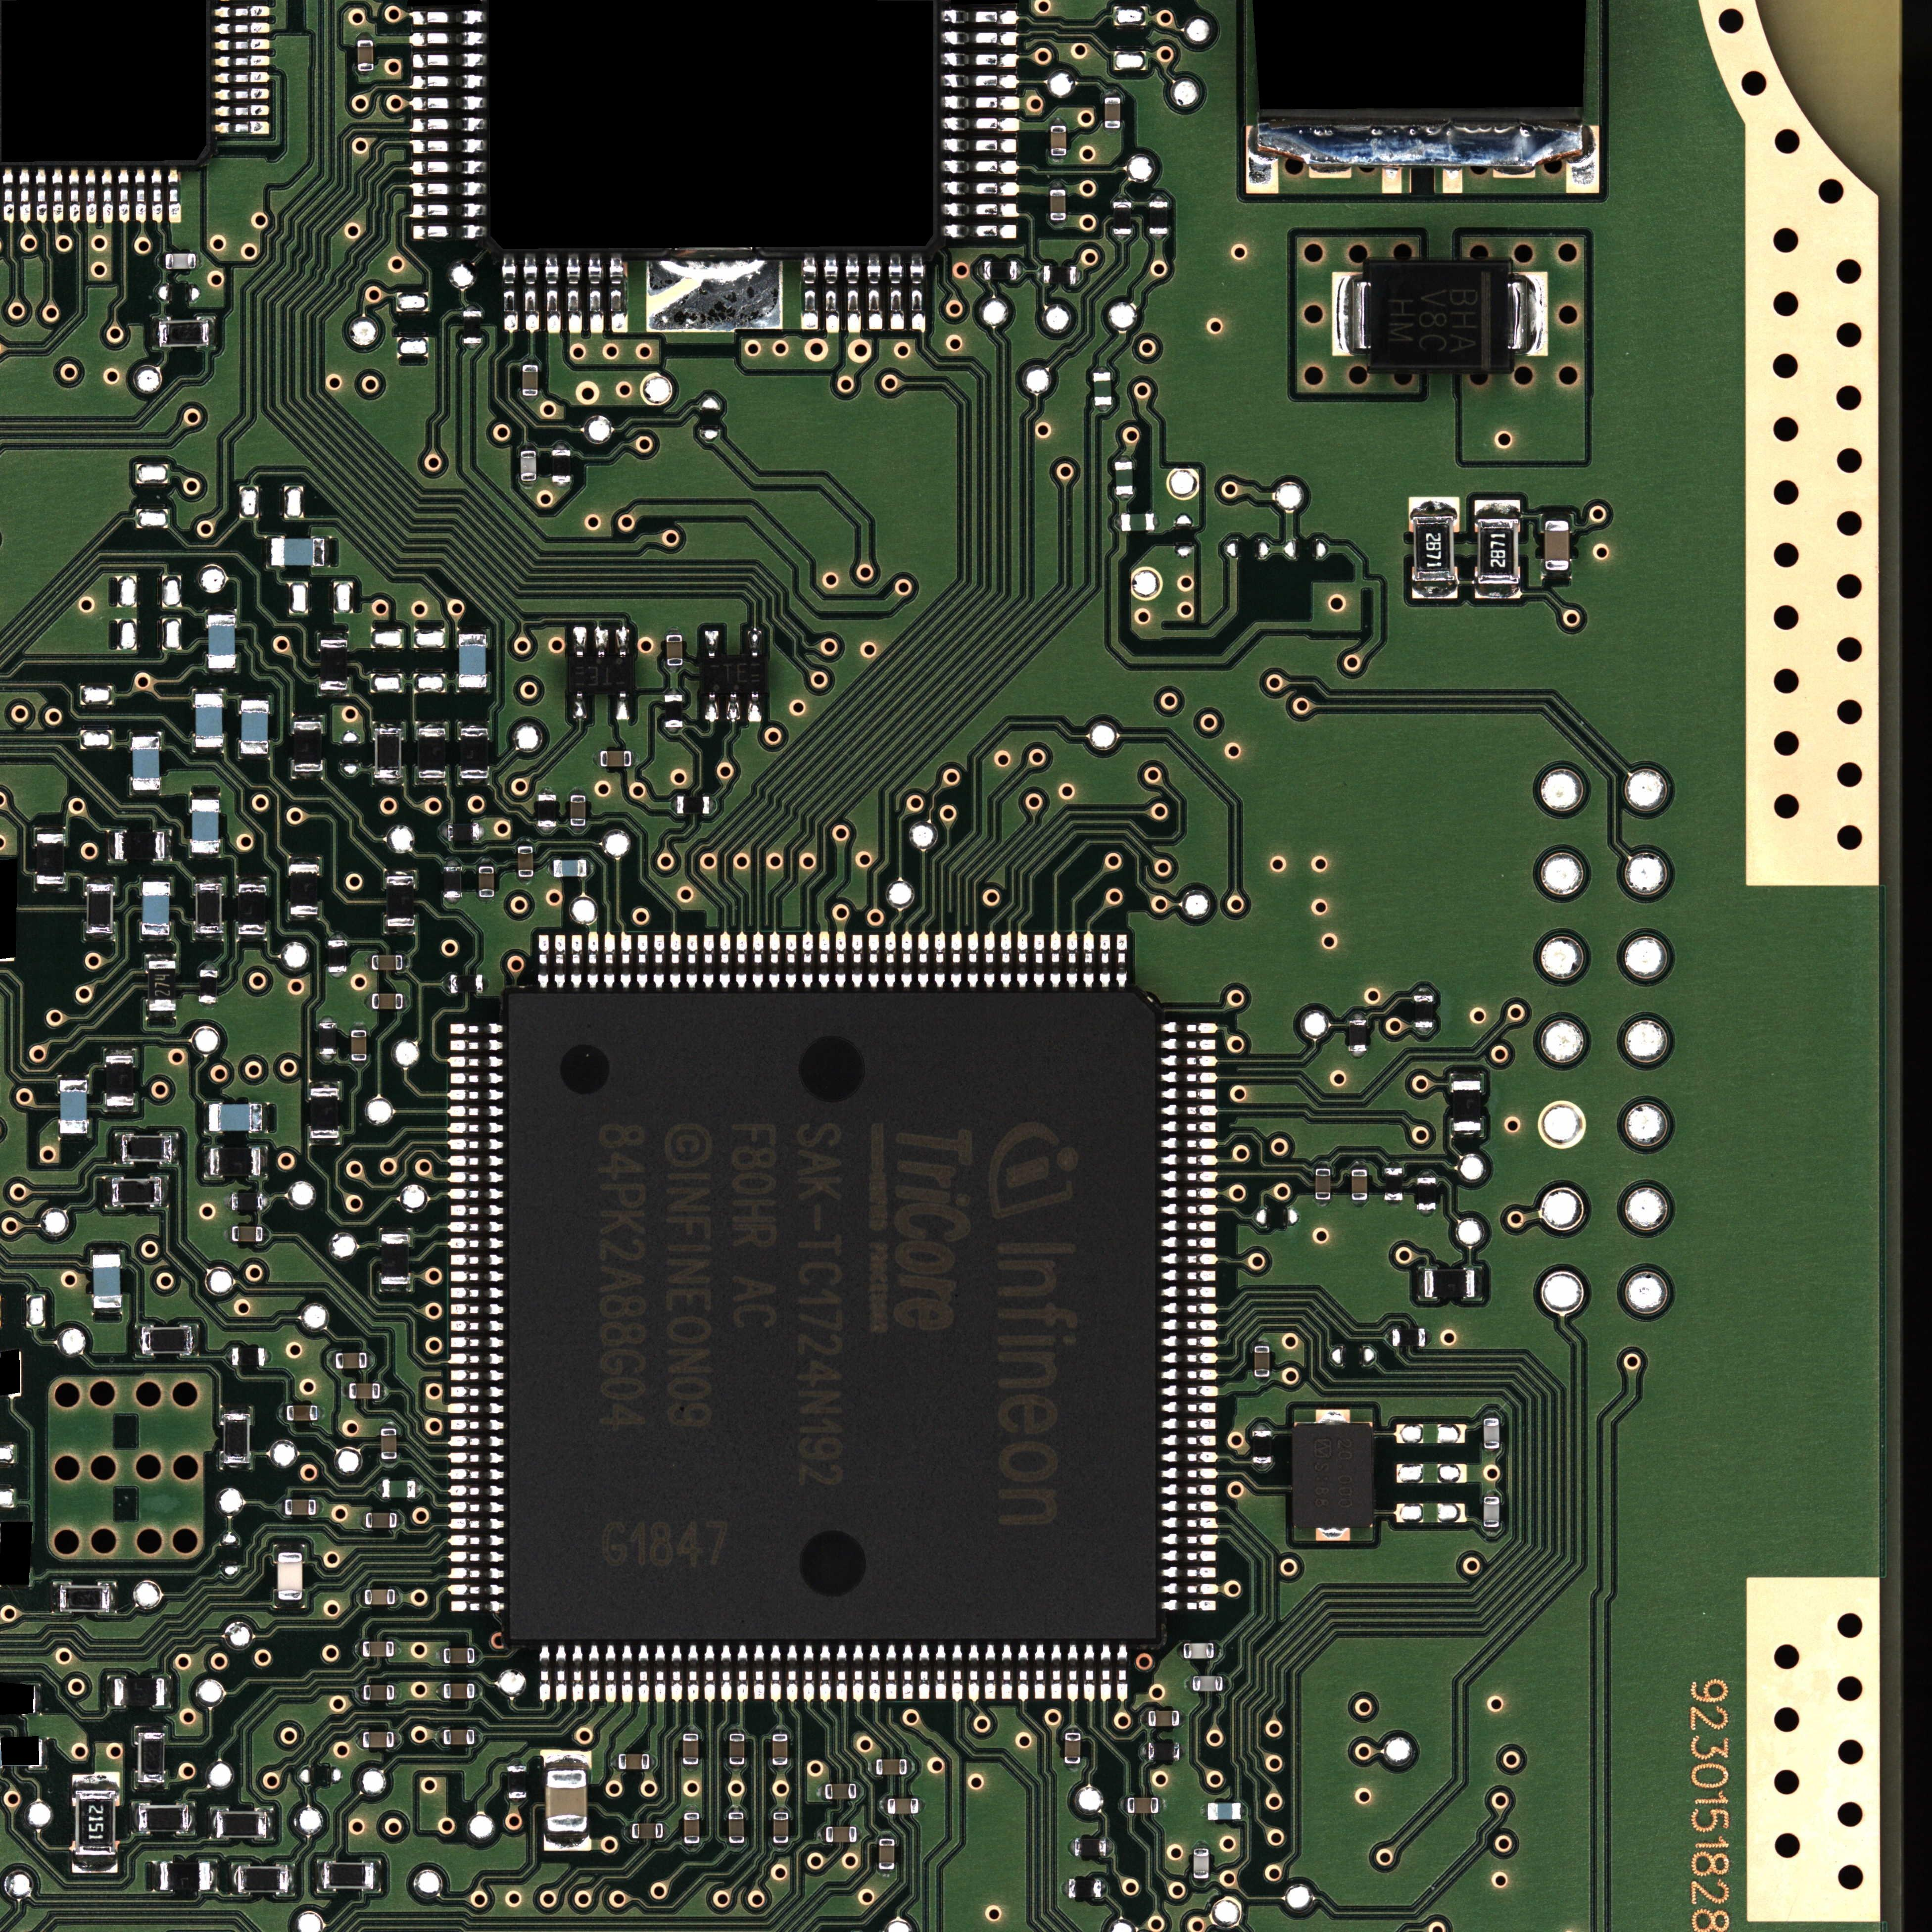Package: (508, 993, 1157, 1640), (1371, 264, 1507, 368), (1292, 1424, 1375, 1527), (74, 1790, 117, 1854), (1477, 518, 1518, 584), (1414, 517, 1454, 580), (547, 1771, 587, 1831), (570, 656, 633, 692), (701, 658, 764, 690), (458, 633, 487, 688), (271, 538, 324, 566), (191, 800, 219, 853), (142, 883, 170, 936), (241, 701, 269, 754), (209, 1104, 262, 1132), (1424, 1269, 1474, 1299), (195, 695, 223, 747), (133, 738, 159, 791), (209, 616, 235, 669), (94, 1254, 120, 1307), (290, 865, 318, 915), (115, 832, 165, 860), (294, 722, 322, 771), (460, 729, 488, 778), (386, 876, 414, 925), (418, 729, 446, 778), (115, 1677, 165, 1706), (211, 1148, 260, 1177), (106, 1056, 134, 1106), (1453, 1081, 1481, 1131), (320, 639, 347, 690), (60, 1081, 87, 1132), (37, 835, 64, 885), (149, 961, 175, 1010), (159, 320, 209, 347), (239, 885, 265, 934), (382, 1235, 409, 1284), (142, 1327, 191, 1353), (311, 1088, 338, 1138), (223, 1414, 249, 1463), (138, 1732, 165, 1782), (2, 1530, 28, 1580), (196, 883, 221, 934), (218, 1812, 265, 1838), (140, 1805, 188, 1831), (113, 1178, 161, 1205), (60, 1585, 108, 1612), (161, 1863, 209, 1890), (375, 729, 400, 778), (122, 1136, 172, 1161), (324, 1863, 373, 1888), (1545, 520, 1569, 570), (87, 885, 111, 932), (239, 1867, 287, 1891), (278, 1553, 303, 1599), (984, 260, 1017, 280), (1414, 994, 1433, 1028), (1253, 1430, 1272, 1463), (1417, 1177, 1437, 1210), (538, 794, 557, 826), (1044, 265, 1076, 285), (1069, 1879, 1100, 1898), (200, 970, 218, 1003), (382, 1481, 416, 1499), (1115, 462, 1132, 495), (1093, 372, 1111, 405), (678, 796, 709, 814), (329, 939, 347, 971), (464, 311, 481, 343), (554, 860, 586, 878), (665, 695, 683, 727), (552, 449, 570, 481), (232, 1348, 264, 1366), (318, 1023, 336, 1054), (508, 1766, 525, 1798), (1150, 202, 1168, 234), (1113, 202, 1131, 234), (1122, 513, 1154, 531), (1348, 1019, 1366, 1051), (1392, 1329, 1424, 1346), (1148, 1743, 1180, 1760), (1385, 1168, 1403, 1200), (232, 1192, 262, 1210), (1076, 1838, 1106, 1856), (600, 750, 632, 766), (448, 824, 479, 840), (363, 1684, 395, 1700), (380, 1428, 396, 1460), (773, 1812, 789, 1844), (349, 1384, 380, 1399), (729, 1812, 745, 1844), (1208, 1803, 1240, 1819), (1065, 1732, 1081, 1764), (1127, 1798, 1159, 1813), (520, 451, 536, 481), (444, 867, 460, 897), (667, 635, 683, 665), (357, 41, 373, 71), (570, 796, 586, 826), (522, 366, 538, 396), (826, 1826, 856, 1842), (363, 1732, 393, 1748), (287, 1405, 317, 1421), (363, 1642, 393, 1658), (232, 1226, 262, 1242), (876, 1759, 906, 1775), (826, 1783, 856, 1799), (444, 1647, 474, 1663), (683, 1734, 699, 1764), (619, 1753, 649, 1769), (364, 1589, 395, 1605), (350, 1030, 366, 1060), (285, 1499, 315, 1514), (366, 1513, 396, 1529), (729, 1734, 745, 1764), (1104, 97, 1120, 127), (1051, 126, 1067, 156), (1192, 1675, 1223, 1691), (1352, 1169, 1368, 1200), (1315, 1169, 1330, 1200), (1484, 1497, 1500, 1527), (1254, 1346, 1270, 1376), (1484, 1419, 1500, 1449), (1148, 1711, 1178, 1727), (518, 846, 533, 878), (166, 253, 195, 269), (479, 867, 494, 897), (372, 955, 402, 970), (372, 994, 402, 1008), (336, 1353, 366, 1368), (685, 1813, 699, 1844), (632, 1824, 662, 1838), (444, 1684, 474, 1698), (444, 1730, 474, 1744), (888, 1799, 918, 1813), (773, 1734, 787, 1764), (879, 1840, 893, 1870), (1051, 189, 1065, 219), (1184, 1644, 1214, 1658), (1194, 1849, 1208, 1879)
Solder: (1247, 122, 1599, 189), (646, 260, 782, 331), (1507, 271, 1548, 356), (1332, 271, 1371, 356), (609, 253, 630, 333), (865, 251, 885, 334), (908, 253, 927, 334), (886, 253, 906, 334), (844, 251, 863, 333), (800, 253, 819, 334), (543, 253, 563, 334), (501, 253, 520, 334), (823, 253, 840, 334), (587, 253, 605, 334), (566, 253, 584, 334), (524, 253, 541, 334), (941, 28, 1021, 46), (941, 73, 1021, 90), (939, 51, 1019, 69), (941, 94, 1021, 111), (941, 115, 1021, 133), (941, 138, 1021, 156), (941, 159, 1021, 177), (939, 202, 1019, 219), (939, 223, 1019, 241), (407, 94, 487, 111), (407, 30, 487, 48), (409, 180, 487, 198), (409, 136, 487, 154), (407, 9, 485, 27), (941, 9, 1021, 25), (939, 180, 1019, 196), (409, 203, 487, 219), (409, 117, 487, 133), (409, 53, 487, 69), (410, 225, 487, 241), (410, 159, 487, 175), (409, 74, 485, 90), (543, 1750, 591, 1769), (1408, 497, 1460, 515), (83, 168, 99, 225), (1474, 499, 1520, 518), (4, 1350, 23, 1396), (166, 168, 182, 223), (73, 1773, 120, 1790), (71, 1856, 119, 1874), (543, 1833, 591, 1851), (1412, 582, 1458, 600), (150, 168, 165, 225), (134, 168, 149, 225), (117, 168, 131, 225), (101, 168, 115, 225), (51, 168, 65, 225), (35, 168, 50, 225), (67, 168, 81, 223), (18, 168, 32, 223), (2, 168, 16, 223), (1474, 584, 1522, 600), (835, 1642, 847, 1702), (968, 1642, 980, 1702), (1116, 1642, 1129, 1702), (448, 1138, 506, 1150), (934, 932, 947, 991), (950, 932, 962, 991), (901, 932, 913, 991), (603, 932, 616, 991), (885, 932, 897, 991), (801, 932, 814, 991), (752, 932, 764, 991), (918, 1642, 931, 1700), (571, 1644, 584, 1702), (621, 1644, 633, 1702), (736, 1644, 748, 1702), (671, 1644, 683, 1702), (1000, 932, 1012, 991), (1049, 932, 1062, 991), (1033, 1642, 1046, 1700), (1017, 1642, 1030, 1700), (984, 1642, 996, 1700), (1067, 1642, 1079, 1700), (212, 104, 271, 117), (449, 1072, 506, 1085), (449, 1088, 506, 1100), (449, 1039, 506, 1051), (449, 1023, 506, 1035), (449, 1352, 506, 1364), (449, 1435, 506, 1447), (449, 1451, 506, 1463), (449, 1468, 506, 1481), (449, 1484, 506, 1497), (449, 1568, 506, 1580), (449, 1550, 506, 1562), (449, 1534, 506, 1546), (449, 1500, 506, 1513), (851, 934, 863, 991), (1116, 934, 1129, 991), (1161, 1203, 1217, 1215), (1161, 1253, 1217, 1265), (1161, 1187, 1217, 1200), (1161, 1302, 1217, 1315), (1161, 1154, 1217, 1166), (1161, 1318, 1217, 1330), (1161, 1138, 1217, 1150), (1161, 1336, 1217, 1348), (1161, 1352, 1217, 1364), (1161, 1021, 1217, 1033), (1161, 1368, 1217, 1380), (1161, 1451, 1217, 1463), (1161, 1583, 1217, 1596), (1161, 1534, 1217, 1546), (214, 5, 271, 18), (214, 21, 271, 34), (214, 39, 271, 51), (214, 55, 271, 67), (214, 71, 271, 83), (449, 1385, 504, 1398), (449, 1171, 504, 1184), (449, 1205, 504, 1217), (449, 1221, 504, 1233), (449, 1187, 504, 1200), (449, 1254, 504, 1267), (449, 1237, 504, 1249), (451, 1369, 506, 1382), (449, 1518, 504, 1530), (653, 936, 665, 991), (1161, 1237, 1215, 1249), (1161, 1286, 1215, 1299), (1161, 1054, 1215, 1067), (1161, 1039, 1215, 1051), (1161, 1417, 1215, 1430), (1162, 1385, 1217, 1398), (1161, 1599, 1215, 1612), (1161, 1566, 1215, 1578), (1162, 1500, 1217, 1513), (1161, 1550, 1215, 1562), (1162, 1484, 1217, 1497), (1162, 1516, 1217, 1529), (1162, 1467, 1217, 1479), (451, 1270, 504, 1283), (451, 1286, 504, 1299), (451, 1320, 504, 1332), (451, 1419, 504, 1431), (451, 1336, 504, 1348), (554, 936, 566, 989), (1162, 1104, 1215, 1116), (1162, 1088, 1215, 1100), (1162, 1401, 1215, 1414), (819, 931, 830, 991), (870, 1642, 881, 1702), (589, 1642, 600, 1702), (605, 1642, 616, 1702), (722, 1642, 732, 1702), (771, 1642, 782, 1702), (688, 1642, 699, 1702), (787, 1642, 798, 1702), (1085, 1642, 1095, 1702), (1100, 1642, 1111, 1702), (448, 1155, 506, 1166), (448, 1122, 506, 1132), (448, 1106, 506, 1116), (918, 932, 929, 991), (968, 932, 978, 991), (835, 932, 846, 991), (621, 932, 632, 991), (671, 932, 681, 991), (587, 932, 598, 991), (718, 932, 729, 991), (770, 932, 780, 991), (736, 932, 747, 991), (902, 1642, 913, 1700), (556, 1644, 566, 1702), (540, 1644, 550, 1702), (936, 1642, 947, 1700), (952, 1644, 962, 1702), (639, 1644, 649, 1702), (655, 1644, 665, 1702), (853, 1644, 863, 1702), (821, 1644, 832, 1702), (803, 1644, 814, 1702), (704, 1644, 715, 1702), (984, 932, 994, 991), (1017, 932, 1028, 991), (1067, 932, 1077, 991), (1083, 932, 1093, 991), (1001, 1642, 1012, 1700), (1051, 1642, 1062, 1700), (212, 122, 271, 133), (449, 1056, 506, 1067), (449, 1583, 506, 1594), (637, 934, 648, 991), (869, 934, 879, 991), (571, 934, 582, 991), (686, 934, 697, 991), (786, 934, 796, 991), (886, 1644, 897, 1700), (754, 1644, 764, 1700), (1033, 934, 1044, 991), (1100, 934, 1111, 991), (1161, 1171, 1217, 1182), (214, 88, 271, 99), (451, 1304, 506, 1315), (449, 1403, 504, 1414), (451, 1601, 506, 1612), (702, 934, 713, 989), (538, 934, 548, 989), (1161, 1221, 1215, 1231), (1161, 1270, 1215, 1281), (1162, 1072, 1217, 1083), (1161, 1122, 1215, 1132), (1161, 1435, 1215, 1445), (704, 692, 720, 722), (725, 692, 741, 722), (571, 626, 587, 656), (1316, 1410, 1350, 1424), (1316, 1527, 1350, 1541), (704, 630, 720, 658), (571, 692, 587, 720), (616, 626, 630, 656), (747, 628, 761, 658), (616, 692, 630, 720), (594, 628, 609, 656), (748, 692, 761, 722), (150, 317, 159, 349), (134, 1723, 166, 1732), (51, 1582, 60, 1614), (103, 1177, 111, 1207), (161, 1177, 170, 1207), (310, 1138, 340, 1146), (262, 1146, 271, 1177), (380, 1284, 410, 1293), (221, 1405, 251, 1414), (274, 1599, 304, 1608), (211, 1861, 219, 1891), (110, 1582, 119, 1612), (315, 1859, 324, 1890), (373, 1861, 382, 1891), (165, 1677, 173, 1707), (172, 1134, 180, 1162), (133, 1327, 142, 1355), (200, 1148, 209, 1177), (106, 1677, 115, 1706), (1543, 570, 1571, 579), (456, 686, 490, 694), (264, 536, 271, 570), (1476, 1267, 1483, 1300), (324, 536, 331, 568), (134, 1783, 166, 1790), (219, 1463, 251, 1470), (1451, 1074, 1483, 1081), (318, 690, 349, 697), (193, 1325, 200, 1355), (113, 1134, 120, 1164), (310, 1081, 340, 1088), (380, 1226, 410, 1233), (131, 1803, 138, 1833), (189, 1803, 196, 1833), (288, 1865, 295, 1895), (274, 1545, 304, 1552), (209, 1808, 216, 1838), (152, 1861, 159, 1891), (267, 1810, 274, 1840), (1417, 1269, 1424, 1299), (1453, 1131, 1483, 1138), (1541, 513, 1571, 520), (37, 885, 65, 892), (202, 1104, 209, 1132), (230, 1865, 237, 1893), (35, 1684, 42, 1713), (42, 1739, 50, 1767), (205, 669, 239, 674), (209, 317, 214, 349), (456, 628, 488, 633), (205, 609, 237, 614), (239, 695, 271, 701), (85, 878, 115, 883), (35, 828, 65, 833), (142, 876, 172, 881), (318, 633, 349, 639), (458, 722, 488, 727), (189, 793, 219, 798), (131, 731, 161, 736), (416, 778, 446, 784), (239, 754, 269, 759), (373, 778, 403, 784), (193, 748, 223, 754), (288, 858, 318, 863), (373, 722, 403, 727), (193, 688, 223, 694), (292, 717, 322, 722), (292, 773, 322, 778), (131, 791, 161, 796), (104, 1049, 134, 1054), (165, 830, 170, 860), (108, 832, 113, 862), (386, 927, 414, 932), (85, 934, 113, 939), (147, 955, 175, 961), (195, 934, 223, 939), (142, 936, 170, 941), (237, 934, 265, 939), (195, 878, 223, 883), (386, 870, 414, 876), (237, 879, 265, 885), (460, 778, 488, 784), (191, 853, 219, 858), (290, 915, 318, 920), (92, 1307, 120, 1313), (60, 1134, 88, 1139), (262, 1104, 267, 1132), (147, 1012, 175, 1017), (106, 1108, 134, 1113), (92, 1249, 120, 1254), (977, 260, 984, 281), (1017, 260, 1024, 281), (60, 1074, 87, 1079), (1214, 1642, 1223, 1658), (441, 823, 448, 842), (1113, 195, 1132, 202), (1076, 265, 1083, 285), (1037, 265, 1044, 285), (1148, 234, 1168, 241), (1348, 1051, 1368, 1058), (464, 304, 481, 311), (464, 343, 481, 350), (478, 823, 485, 840), (200, 962, 218, 970), (329, 971, 347, 978), (552, 481, 570, 488), (538, 787, 556, 794), (1104, 90, 1122, 97), (1419, 1210, 1437, 1217), (1063, 1764, 1081, 1771), (159, 253, 166, 269), (265, 1346, 271, 1368), (570, 826, 586, 833), (570, 787, 586, 794), (1049, 182, 1065, 189), (1254, 1376, 1270, 1384), (1192, 1842, 1208, 1849), (1141, 1711, 1148, 1727), (198, 1003, 218, 1008), (226, 1346, 232, 1366), (226, 1192, 232, 1212), (508, 1799, 527, 1805), (1113, 235, 1132, 241), (1414, 989, 1433, 994), (418, 724, 446, 727), (382, 1460, 396, 1467), (669, 667, 683, 674), (667, 727, 681, 734), (667, 628, 681, 635), (685, 1844, 699, 1851), (1177, 1644, 1184, 1658), (329, 934, 347, 939), (444, 897, 462, 902), (318, 1054, 336, 1060), (318, 1017, 336, 1023), (474, 1729, 479, 1746), (377, 1479, 382, 1497), (538, 828, 556, 833), (632, 750, 637, 768), (508, 1760, 525, 1766), (1150, 195, 1168, 200), (1049, 221, 1067, 226), (1095, 405, 1113, 410), (1104, 129, 1122, 134), (1049, 119, 1067, 124), (1093, 366, 1111, 372), (1115, 456, 1132, 462), (1348, 1014, 1366, 1019), (1415, 1028, 1433, 1033), (1253, 1424, 1270, 1430), (1417, 1171, 1435, 1177), (1387, 1329, 1392, 1346), (1385, 1201, 1403, 1207), (1385, 1162, 1403, 1168), (1426, 1329, 1431, 1346), (1254, 1463, 1272, 1468), (1063, 1879, 1069, 1897), (196, 253, 202, 269), (357, 71, 373, 76), (478, 860, 494, 865), (366, 993, 372, 1008), (380, 1422, 396, 1428), (359, 1589, 364, 1605), (357, 1732, 363, 1748), (439, 1647, 444, 1663), (280, 1499, 285, 1514), (520, 446, 536, 451), (520, 481, 536, 487), (522, 359, 538, 364), (522, 396, 538, 402), (587, 860, 593, 876), (665, 688, 681, 694), (594, 750, 600, 766), (548, 860, 554, 876), (773, 1806, 789, 1812), (729, 1764, 745, 1769), (683, 1764, 699, 1769), (683, 1729, 699, 1734), (856, 1826, 862, 1842), (773, 1844, 789, 1849), (729, 1844, 745, 1849), (771, 1766, 787, 1771), (729, 1729, 745, 1734), (879, 1833, 895, 1838), (878, 1870, 893, 1875), (918, 1798, 924, 1813), (821, 1826, 826, 1842), (1051, 156, 1067, 161), (1116, 515, 1122, 531), (1254, 1339, 1270, 1345), (1315, 1162, 1330, 1168), (1065, 1727, 1081, 1732), (1192, 1879, 1208, 1884), (1223, 1675, 1228, 1691), (1069, 1840, 1074, 1856), (1106, 1840, 1111, 1856), (1484, 1449, 1500, 1454), (479, 897, 494, 902), (366, 955, 372, 970), (439, 1684, 444, 1698), (518, 840, 533, 846), (518, 878, 533, 883), (773, 1729, 787, 1734), (729, 1806, 743, 1812), (1484, 1412, 1499, 1417), (1484, 1529, 1499, 1534), (444, 862, 462, 865), (350, 1026, 368, 1030), (264, 1192, 267, 1210), (476, 1683, 479, 1700), (552, 446, 570, 449), (672, 796, 676, 814), (711, 796, 715, 814), (1180, 1743, 1184, 1760), (1180, 1709, 1184, 1727), (1145, 1743, 1148, 1760), (357, 35, 373, 39), (403, 954, 407, 970), (318, 1405, 322, 1421), (228, 1226, 232, 1242), (345, 1384, 349, 1399), (264, 1226, 267, 1242), (350, 1062, 366, 1065), (380, 1384, 384, 1399), (368, 1352, 372, 1368), (283, 1405, 287, 1421), (396, 1589, 400, 1605), (416, 1481, 419, 1497), (398, 1513, 402, 1529), (317, 1499, 320, 1514), (476, 1647, 479, 1663), (361, 1513, 364, 1529), (395, 1684, 398, 1700), (908, 1759, 911, 1775), (856, 1783, 860, 1799), (883, 1798, 886, 1813), (614, 1753, 617, 1769), (649, 1753, 653, 1769), (821, 1783, 824, 1799), (872, 1759, 876, 1775), (663, 1822, 667, 1838), (1116, 495, 1132, 499), (1155, 513, 1159, 529), (1352, 1164, 1368, 1168), (1352, 1201, 1368, 1205), (1242, 1803, 1246, 1819), (1189, 1675, 1192, 1691), (1159, 1798, 1162, 1813), (1203, 1803, 1207, 1819), (1123, 1798, 1127, 1813), (1102, 1881, 1106, 1897), (403, 994, 407, 1008), (331, 1353, 334, 1368), (359, 1642, 363, 1656), (359, 1686, 363, 1700), (439, 1730, 442, 1744), (395, 1642, 398, 1656), (395, 1732, 398, 1746), (685, 1808, 699, 1812), (628, 1824, 632, 1838), (1316, 1201, 1330, 1205), (1484, 1491, 1499, 1495), (444, 975, 449, 982), (483, 975, 488, 982)
